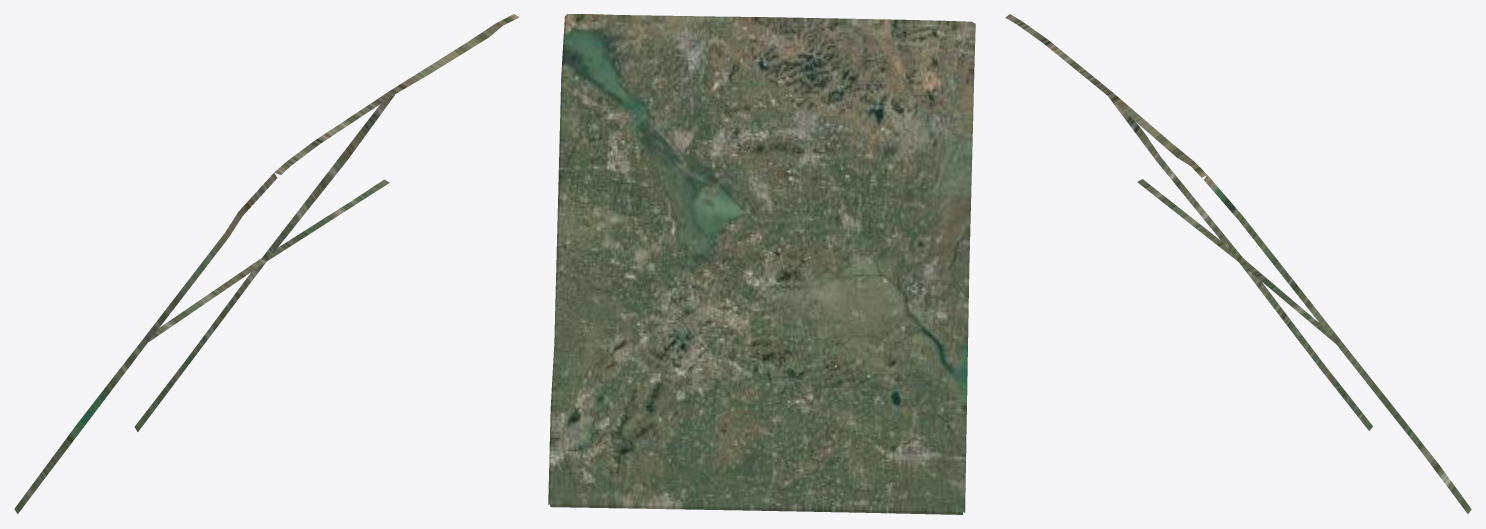
3 renders of one model, left to right at view 1: azimuth 30°, elevation 25°; view 2: azimuth 150°, elevation 25°; view 3: azimuth 270°, elevation 25°, orthographic. The views are drawn at different scales.
Bounding box in the file's own units: 156957 × 131626 × 140290.
1 material, 1 textured.
